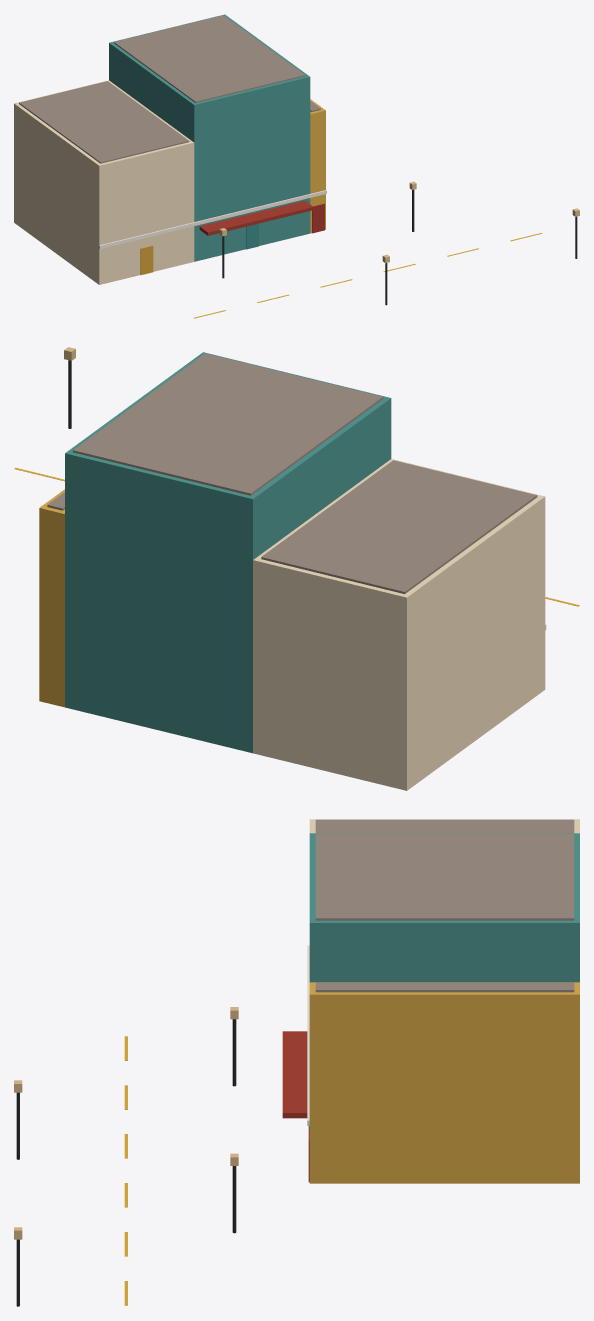
Rendered from chunk_2_-2.glb.
The picture shows the model from 3 angles, top to bottom: view 1: azimuth 30°, elevation 25°; view 2: azimuth 150°, elevation 25°; view 3: azimuth 270°, elevation 25°; orthographic projection. The views are drawn at different scales.
Parts seen in each view (by area): view 1: chunk_2_-2__building, chunk_2_-2__lamp; view 2: chunk_2_-2__building; view 3: chunk_2_-2__building, chunk_2_-2__lamp.
Boxes of the visible parts, box(x1,y1,x2,y2) form: chunk_2_-2__building: box(14, 14, 326, 284); chunk_2_-2__lamp: box(219, 181, 579, 305); chunk_2_-2__building: box(39, 352, 546, 790); chunk_2_-2__building: box(282, 819, 579, 1183); chunk_2_-2__lamp: box(14, 1007, 238, 1306).
Size of the model in its own units: 36.72 by 14.32 by 29.32.
